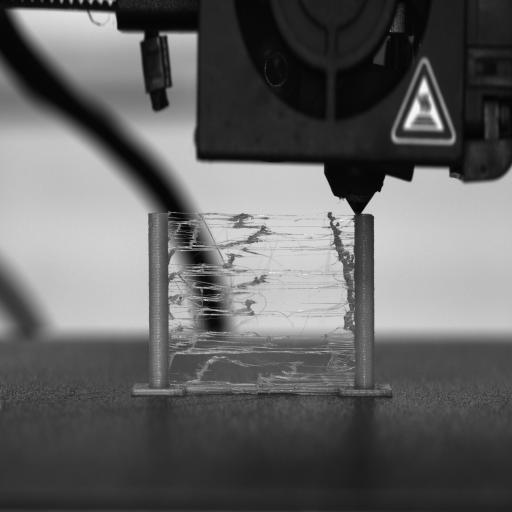spaghetti_and_stringing: (169, 214, 354, 387)
